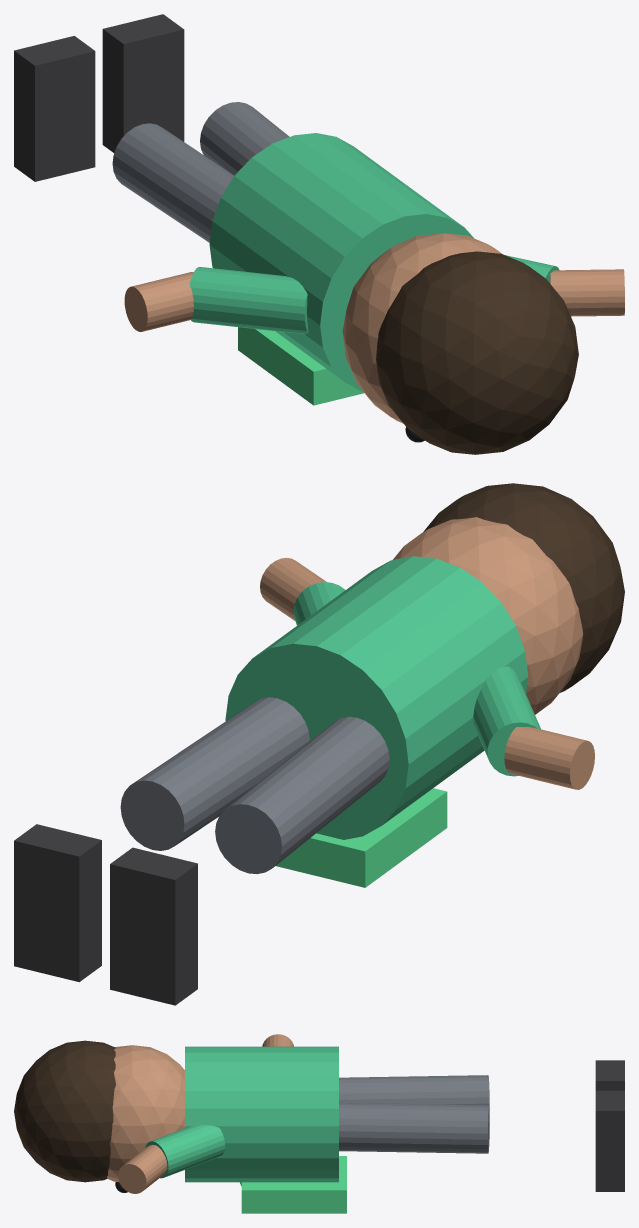
The model's file is Study_Buddy.glb.
The picture shows the model from 3 angles, top to bottom: view 1: azimuth 30°, elevation 25°; view 2: azimuth 150°, elevation 25°; view 3: azimuth 270°, elevation 25°; orthographic projection. The views are drawn at different scales.
Parts seen in each view (by area): view 1: hair, torso, shoe.L, shoe.R, leg.L, head, arm.L, book, leg.R, forearm.L, forearm.R; view 2: torso, leg.L, leg.R, head, shoe.L, shoe.R, hair, book, forearm.L, arm.L, forearm.R, arm.R; view 3: torso, hair, leg.R, head, leg.L, book, shoe.R, arm.R, forearm.R, shoe.L, forearm.L.
Boxes of the visible parts, x1,y1,x2,y2 form: hair: [376, 251, 578, 454]; torso: [209, 133, 473, 392]; shoe.L: [14, 36, 95, 181]; shoe.R: [102, 14, 184, 152]; leg.L: [112, 123, 233, 242]; head: [342, 233, 501, 423]; arm.L: [189, 267, 308, 334]; book: [238, 327, 364, 405]; leg.R: [200, 102, 289, 175]; forearm.L: [124, 272, 193, 331]; forearm.R: [550, 269, 624, 316]; torso: [225, 556, 528, 839]; leg.L: [215, 716, 389, 873]; leg.R: [120, 697, 309, 850]; head: [393, 517, 583, 714]; shoe.L: [110, 847, 197, 1005]; shoe.R: [14, 824, 101, 982]; hair: [423, 483, 624, 692]; book: [276, 788, 447, 887]; forearm.L: [504, 727, 594, 789]; arm.L: [473, 666, 540, 776]; forearm.R: [260, 557, 326, 620]; arm.R: [293, 582, 345, 625]; torso: [185, 1046, 338, 1182]; hair: [14, 1040, 115, 1182]; leg.R: [339, 1102, 489, 1153]; head: [107, 1045, 184, 1181]; leg.L: [339, 1075, 489, 1105]; book: [241, 1156, 346, 1213]; shoe.R: [595, 1090, 624, 1191]; arm.R: [145, 1125, 225, 1178]; forearm.R: [118, 1145, 167, 1193]; shoe.L: [595, 1060, 624, 1090]; forearm.L: [262, 1034, 293, 1046].
Bounding box in the file's own units: 1.95 × 1.02 × 3.77.
